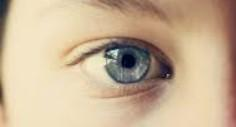eye: (103, 47, 152, 84)
